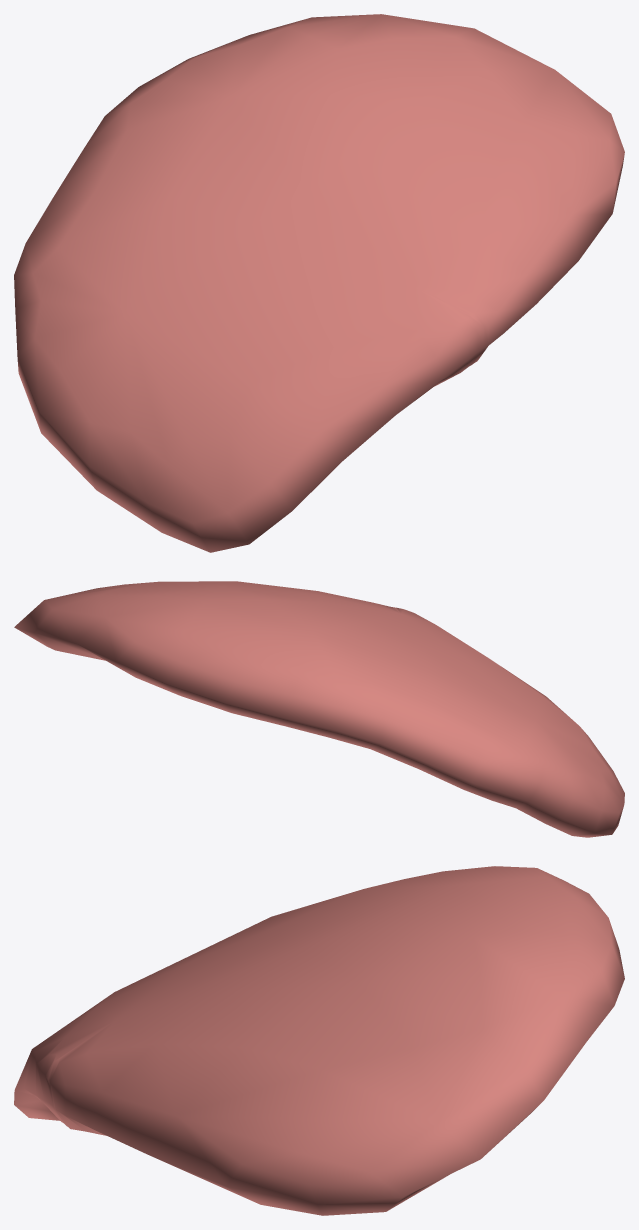
The picture shows the model from 3 angles, top to bottom: view 1: azimuth 30°, elevation 25°; view 2: azimuth 150°, elevation 25°; view 3: azimuth 270°, elevation 25°; orthographic projection. The views are drawn at different scales.
Parts seen in each view (by area): view 1: ZA_8add2d91d9f2ddf2; view 2: ZA_8add2d91d9f2ddf2; view 3: ZA_8add2d91d9f2ddf2.
Part boxes in pixels (box(x1,y1,x2,y2)): ZA_8add2d91d9f2ddf2: box(14, 14, 624, 552); ZA_8add2d91d9f2ddf2: box(14, 581, 624, 837); ZA_8add2d91d9f2ddf2: box(14, 866, 624, 1215).
Size of the model in its own units: 0.00493 by 0.0023 by 0.00359.
